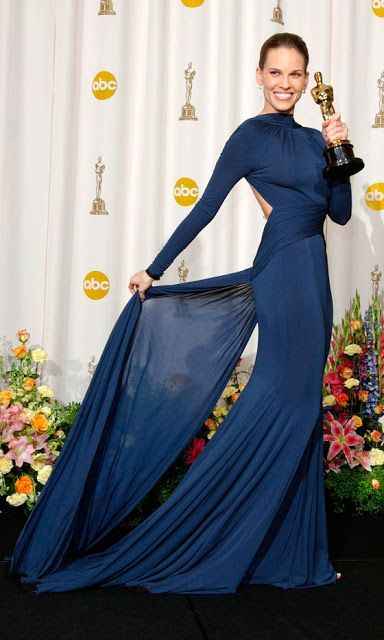hand: (318, 117, 344, 150)
